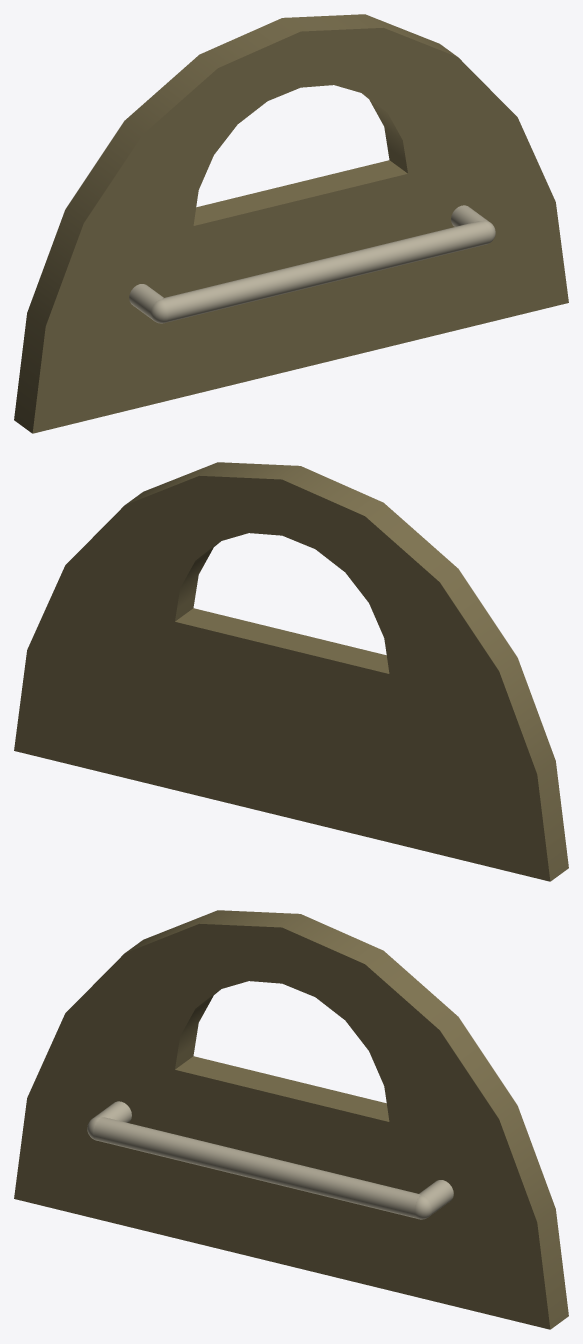
File: ovenD.obj
The picture shows the model from 3 angles, top to bottom: view 1: azimuth 30°, elevation 25°; view 2: azimuth 150°, elevation 25°; view 3: azimuth 330°, elevation 25°; orthographic projection.
Parts seen in each view (by area): view 1: door; view 2: door; view 3: door.
Part boxes in pixels (x1=…): door: x1=14, y1=14, x2=568, y2=433; door: x1=14, y1=462, x2=568, y2=881; door: x1=14, y1=910, x2=568, y2=1329.
Size of the model in its own units: 1 by 0.6 by 0.15.
